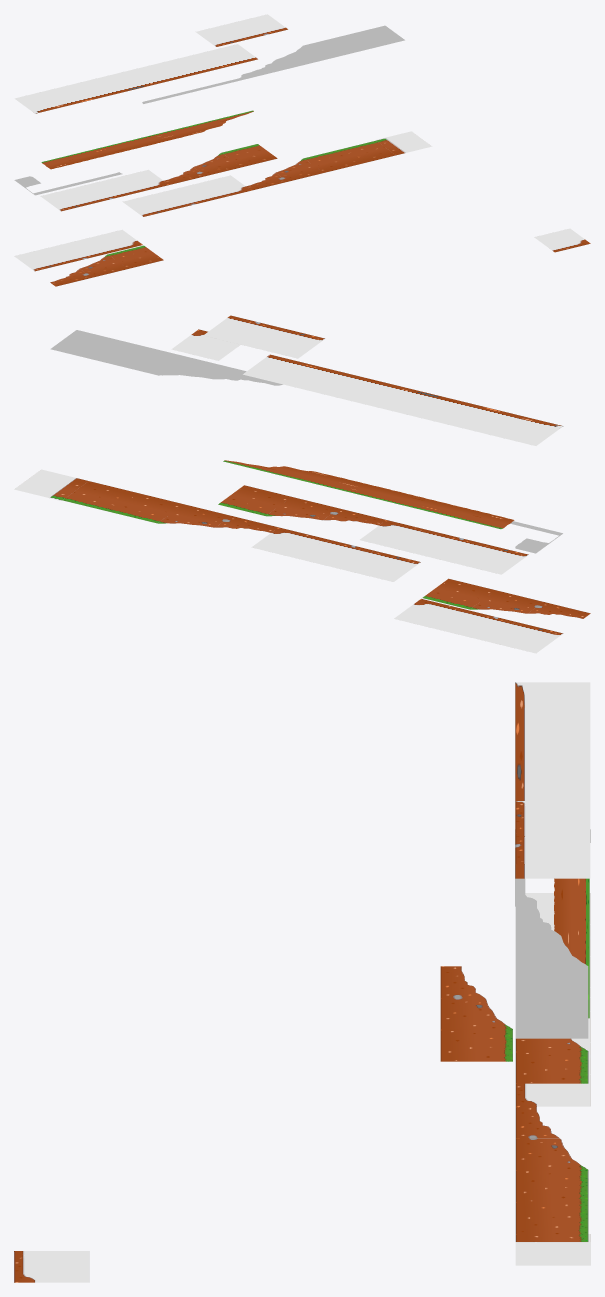
The model's file is intro-smaller.obj.
3 renders of one model, top to bottom at view 1: azimuth 30°, elevation 25°; view 2: azimuth 150°, elevation 25°; view 3: azimuth 270°, elevation 25°, orthographic. The views are drawn at different scales.
Parts seen in each view (by area): view 1: Plane.029_Plane.026, Plane.025_Plane.022, Plane.015_Plane.012, Plane.028_Plane.025, Plane.026_Plane.023, Plane, Plane.027_Plane.024, Plane.017_Plane.014, Plane.009_Plane.005, Plane.001, Plane.018_Plane.015, Plane.007_Plane.044 (+12 smaller); view 2: Plane.029_Plane.026, Plane.025_Plane.022, Plane.015_Plane.012, Plane.001, Plane.018_Plane.015, Plane.017_Plane.014, Plane.016_Plane.013, Plane, Plane.027_Plane.024, Plane.026_Plane.023, Plane.023_Plane.020, Plane.007_Plane.044 (+15 smaller); view 3: Plane.029_Plane.026, Plane.025_Plane.022, Plane.015_Plane.012, Plane.013_Plane.010, Plane.028_Plane.025, Plane.027_Plane.024, Plane.026_Plane.023, Plane.023_Plane.020, Plane.004, Plane.022_Plane.019, Plane.021_Plane.018, Plane.020_Plane.017 (+5 smaller).
Boxes of the visible parts, <box> form: Plane.029_Plane.026: <box>14,44,257,113</box>; Plane.025_Plane.022: <box>142,25,404,103</box>; Plane.015_Plane.012: <box>41,110,253,169</box>; Plane.028_Plane.025: <box>534,228,590,252</box>; Plane.026_Plane.023: <box>196,23,251,46</box>; Plane: <box>14,247,70,271</box>; Plane.027_Plane.024: <box>232,14,287,38</box>; Plane.017_Plane.014: <box>159,184,214,208</box>; Plane.009_Plane.005: <box>77,178,132,202</box>; Plane.001: <box>50,238,106,262</box>; Plane.018_Plane.015: <box>195,175,250,199</box>; Plane.007_Plane.044: <box>40,187,96,211</box>; Plane.029_Plane.026: <box>243,354,563,445</box>; Plane.025_Plane.022: <box>50,330,282,385</box>; Plane.015_Plane.012: <box>223,460,514,529</box>; Plane.001: <box>441,610,515,641</box>; Plane.018_Plane.015: <box>251,527,325,558</box>; Plane.017_Plane.014: <box>299,539,373,570</box>; Plane.016_Plane.013: <box>346,550,420,581</box>; Plane: <box>489,622,563,653</box>; Plane.027_Plane.024: <box>203,315,277,346</box>; Plane.026_Plane.023: <box>251,327,324,358</box>; Plane.023_Plane.020: <box>14,469,88,500</box>; Plane.007_Plane.044: <box>454,543,528,574</box>; Plane.029_Plane.026: <box>515,682,590,878</box>; Plane.025_Plane.022: <box>515,878,588,1038</box>; Plane.015_Plane.012: <box>554,878,589,1018</box>; Plane.013_Plane.010: <box>515,1051,588,1083</box>; Plane.028_Plane.025: <box>14,1251,89,1282</box>; Plane.027_Plane.024: <box>515,833,590,864</box>; Plane.026_Plane.023: <box>515,801,590,832</box>; Plane.023_Plane.020: <box>515,1234,590,1265</box>; Plane.004: <box>440,1029,512,1061</box>; Plane.022_Plane.019: <box>515,1202,588,1233</box>; Plane.021_Plane.018: <box>515,1170,588,1201</box>; Plane.020_Plane.017: <box>515,1138,587,1170</box>.
Size of the model in its own units: 11.54 by 4.76 by 7.67.
